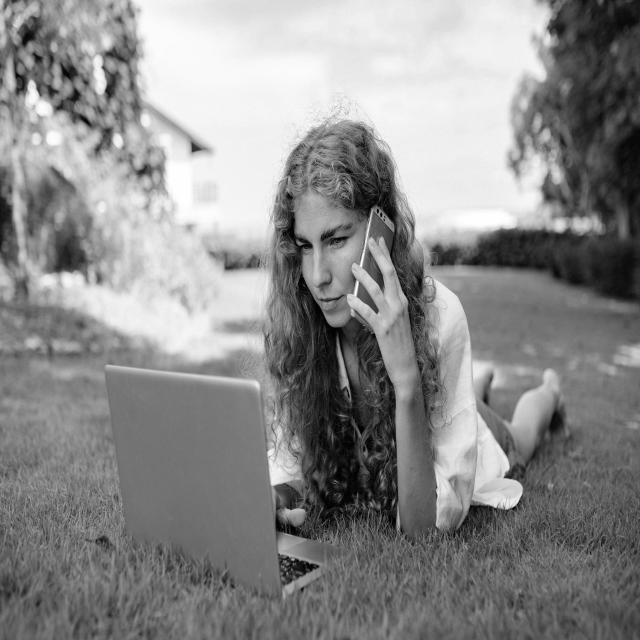lie: (256, 112, 604, 544)
